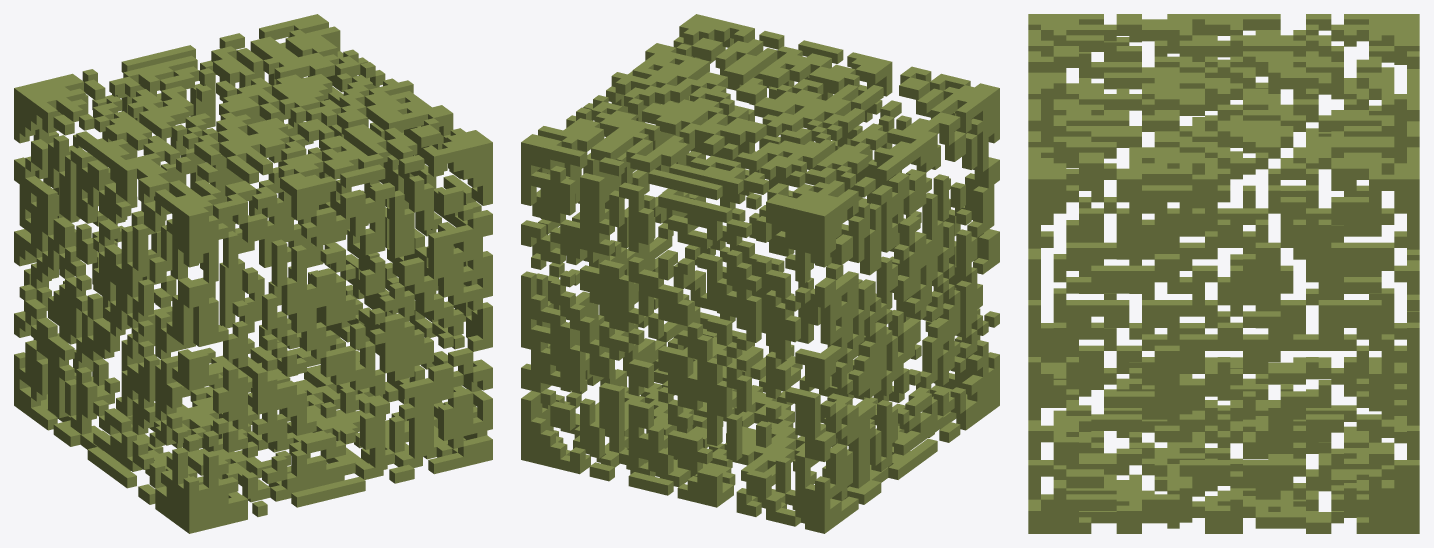
File: bush.obj
3 views of the same model, side by side, from view 1: azimuth 30°, elevation 25°; view 2: azimuth 150°, elevation 25°; view 3: azimuth 270°, elevation 25° (orthographic). The views are drawn at different scales.
Parts seen in each view (by area): view 1: bush; view 2: bush; view 3: bush.
Boxes of the visible parts, x1,y1,x2,y2 form: bush: [14, 14, 492, 533]; bush: [521, 14, 999, 533]; bush: [1028, 14, 1419, 533].
Size of the model in its own units: 31 by 31 by 31.
1 material, 1 textured.
